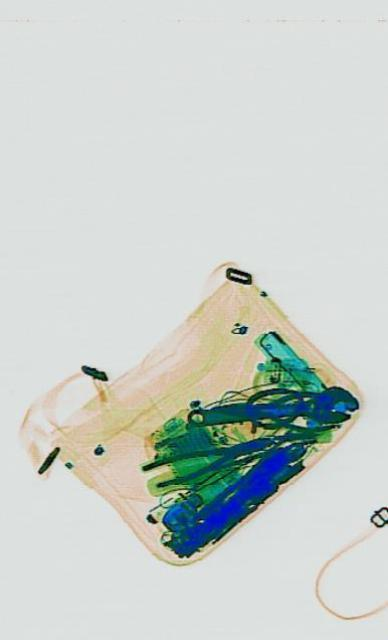Pliers: (139, 424, 271, 494)
Wrench: (184, 382, 357, 433)
